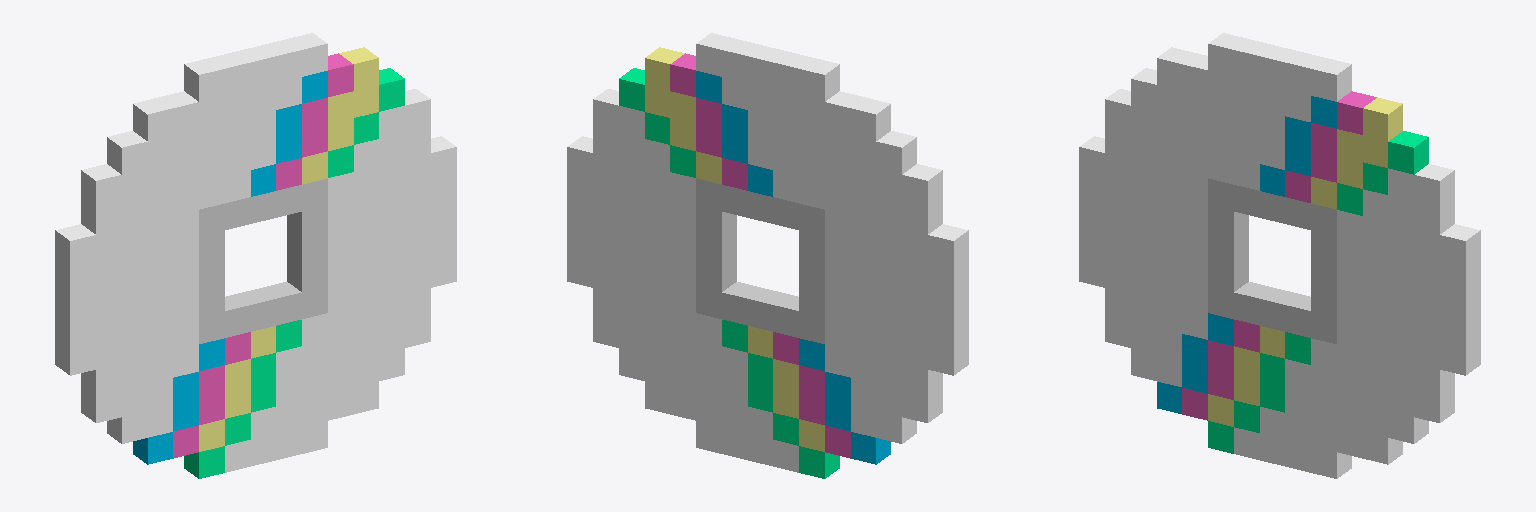
3 renders of one model, left to right at view 1: azimuth 30°, elevation 25°; view 2: azimuth 150°, elevation 25°; view 3: azimuth 330°, elevation 25°, orthographic.
Visible parts, largest first — view 1: CompactDisk; view 2: CompactDisk; view 3: CompactDisk.
Part boxes in pixels (x1,y1,x2,y2): CompactDisk: (55, 33, 456, 478); CompactDisk: (567, 33, 968, 478); CompactDisk: (1079, 33, 1480, 478).
Bounding box in the file's own units: 15 × 15 × 1.
Materials: 1 (1 with a texture image).